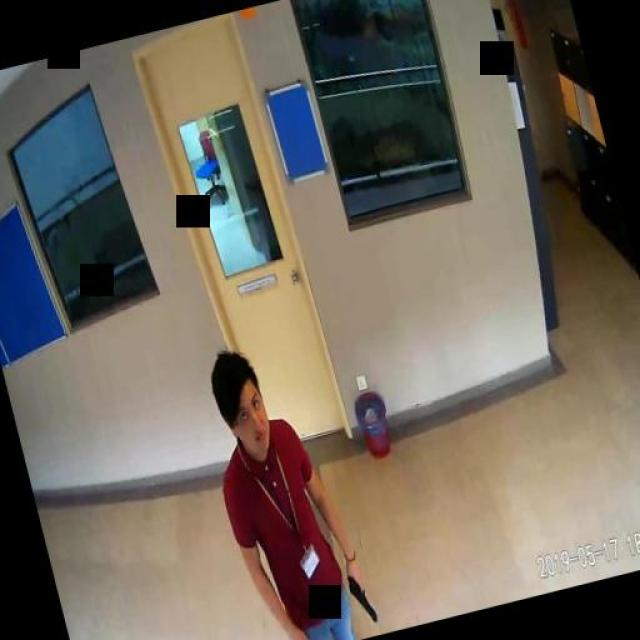gun: (342, 558, 376, 626)
